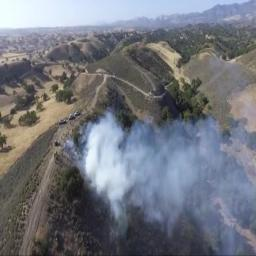Low smoke: (63, 110, 247, 232)
